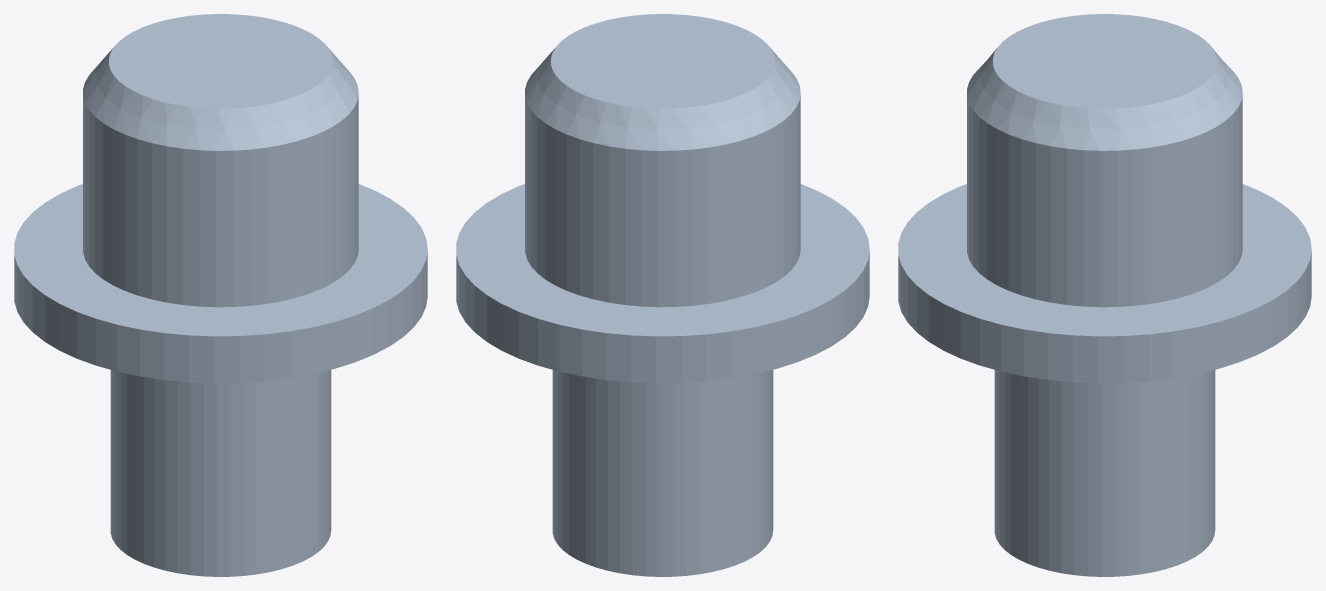
3 views of the same model, side by side, from view 1: azimuth 30°, elevation 25°; view 2: azimuth 150°, elevation 25°; view 3: azimuth 270°, elevation 25° (orthographic).
Parts seen in each view (by area): view 1: p01; view 2: p01; view 3: p01.
Part boxes in pixels (x1,y1,x2,y2): p01: (14, 14, 427, 576); p01: (456, 14, 869, 576); p01: (898, 14, 1311, 576).
Bounding box in the file's own units: 0.024 × 0.03 × 0.024.
